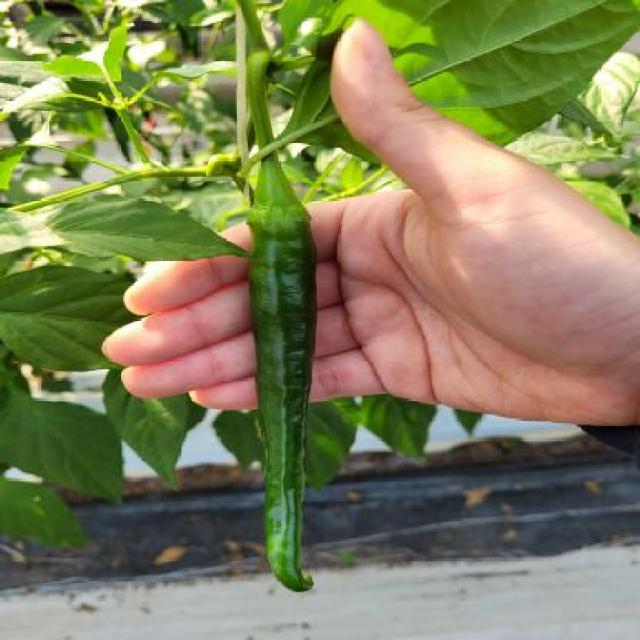green chilli: (248, 217, 317, 592)
